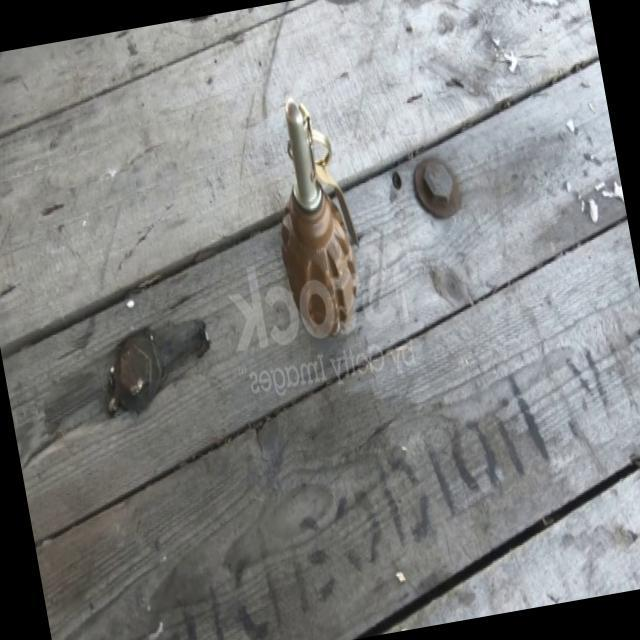grenade: (249, 89, 374, 348)
